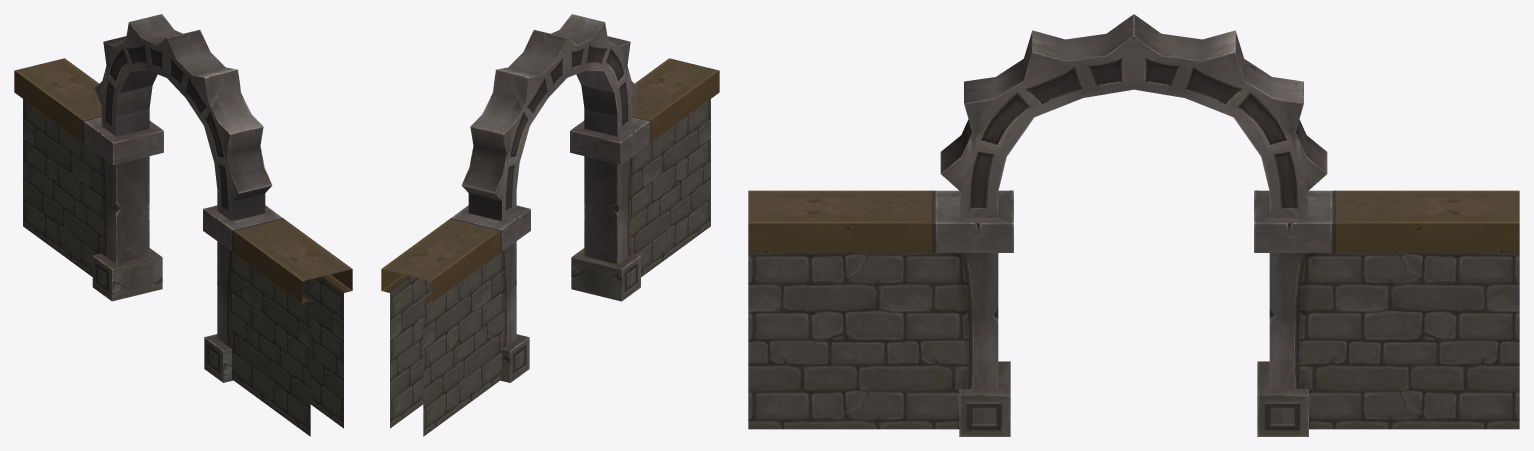
Rendered from Time limit_Wall_03.FBX.
3 renders of one model, left to right at view 1: azimuth 30°, elevation 25°; view 2: azimuth 150°, elevation 25°; view 3: azimuth 270°, elevation 25°, orthographic. The views are drawn at different scales.
Parts seen in each view (by area): view 1: Time limit_Wall_03; view 2: Time limit_Wall_03; view 3: Time limit_Wall_03.
Part boxes in pixels (x1,y1,x2,y2): Time limit_Wall_03: [14, 14, 352, 436]; Time limit_Wall_03: [381, 14, 719, 436]; Time limit_Wall_03: [748, 14, 1519, 436].
Size of the model in its own units: 1.8 by 9.94 by 17.56.
